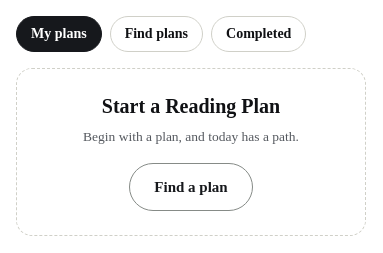
Find plans › says what each plan is: its category and length, and its first sentence
The width and height of the screenshot is (383, 253).
Click the button with test id "plans-chip-find" at (156, 34), box 110,16 -> 203,52
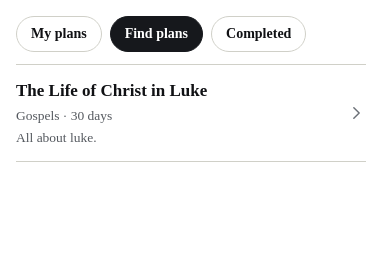
expect the button with test id "plan-luke" does not show "second sentence": met, box 16,65 -> 366,162
expect the button with test id "plan-luke" shows "Gospels · 30 days": met, box 16,65 -> 366,162
expect the button with test id "plan-luke" shows "All about luke.": met, box 16,65 -> 366,162
